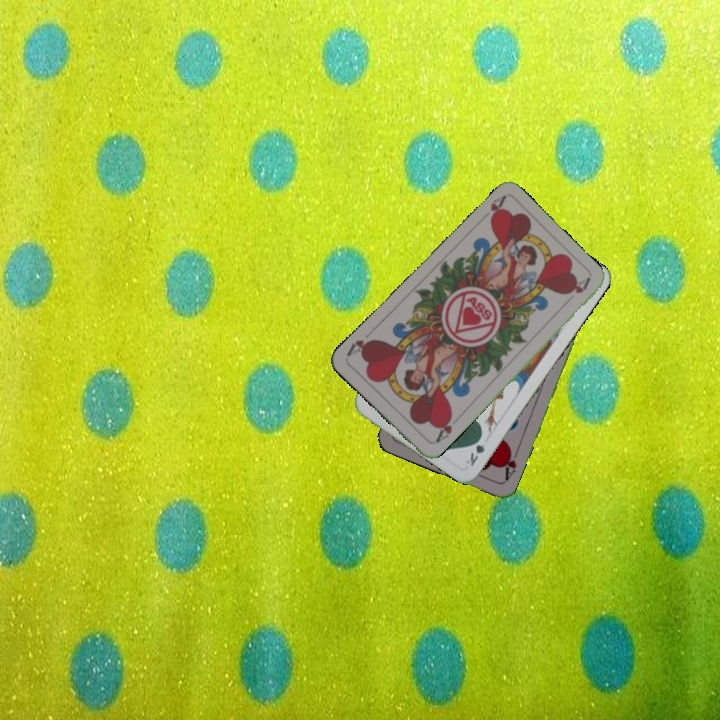GK: (462, 431, 488, 469)
HA: (431, 410, 462, 446), (499, 445, 522, 484), (486, 192, 508, 225)
